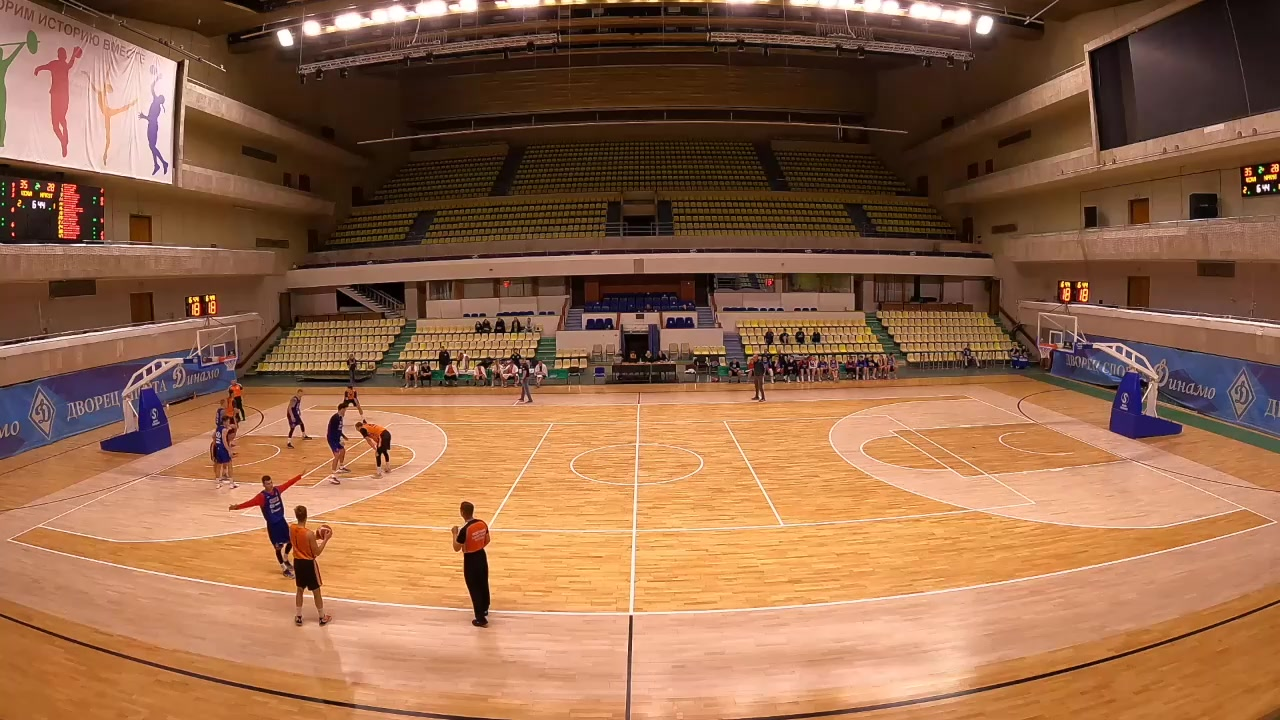basketball: (271, 477, 297, 506), (262, 481, 268, 483)
